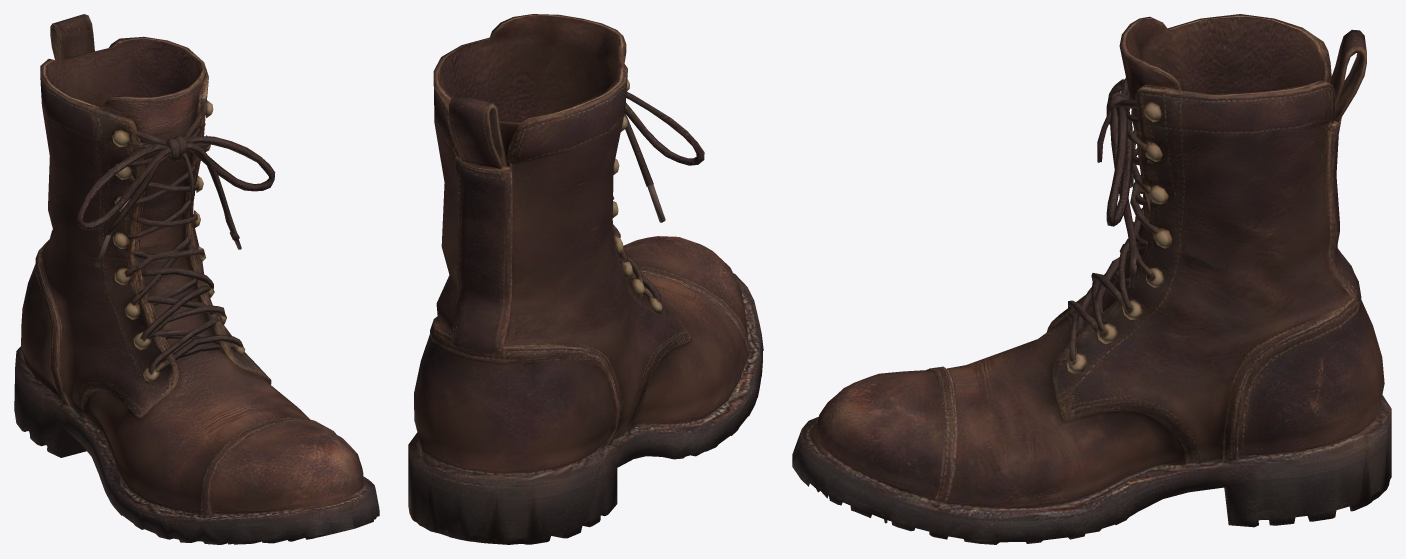
The model's file is boot.glb.
3 renders of one model, left to right at view 1: azimuth 30°, elevation 25°; view 2: azimuth 150°, elevation 25°; view 3: azimuth 270°, elevation 25°, orthographic. The views are drawn at different scales.
Parts seen in each view (by area): view 1: tripo_node_effbaf29-128a-4d34-a713-cf33ff46a9be; view 2: tripo_node_effbaf29-128a-4d34-a713-cf33ff46a9be; view 3: tripo_node_effbaf29-128a-4d34-a713-cf33ff46a9be.
Part boxes in pixels (box(x1,y1,x2,y2)): tripo_node_effbaf29-128a-4d34-a713-cf33ff46a9be: box(14, 14, 379, 544); tripo_node_effbaf29-128a-4d34-a713-cf33ff46a9be: box(408, 14, 763, 544); tripo_node_effbaf29-128a-4d34-a713-cf33ff46a9be: box(792, 14, 1391, 544).
Size of the model in its own units: 0.4707 by 0.8223 by 0.998.
Materials: 1 (1 with a texture image).
